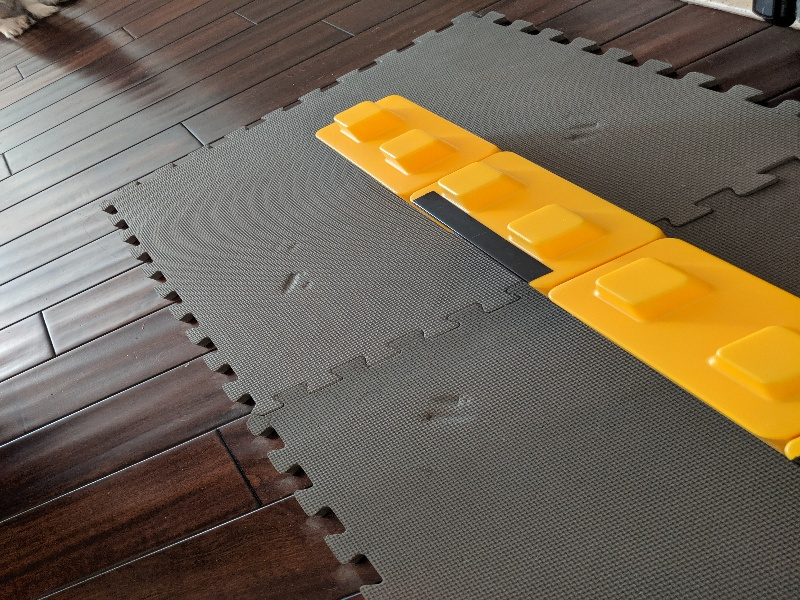Skystone: (406, 187, 562, 291)
